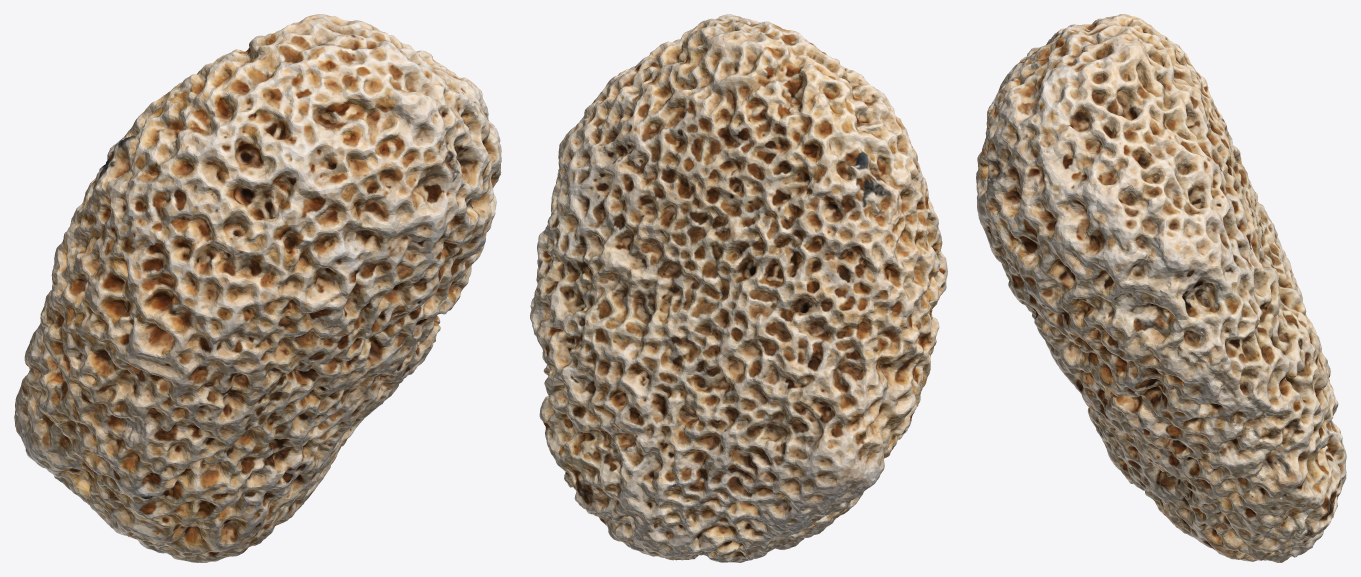
Rendered from MZUR3D-074.glb.
The picture shows the model from 3 angles, left to right: view 1: azimuth 30°, elevation 25°; view 2: azimuth 150°, elevation 25°; view 3: azimuth 270°, elevation 25°; orthographic projection. The views are drawn at different scales.
Visible parts, largest first — view 1: Cliona_sasso_perforato; view 2: Cliona_sasso_perforato; view 3: Cliona_sasso_perforato.
Boxes of the visible parts, x1=… form: Cliona_sasso_perforato: x1=14, y1=14, x2=501, y2=562; Cliona_sasso_perforato: x1=530, y1=14, x2=947, y2=562; Cliona_sasso_perforato: x1=976, y1=14, x2=1346, y2=562.
Bounding box in the file's own units: 0.4663 × 0.5863 × 0.378.
1 material, 1 textured.
